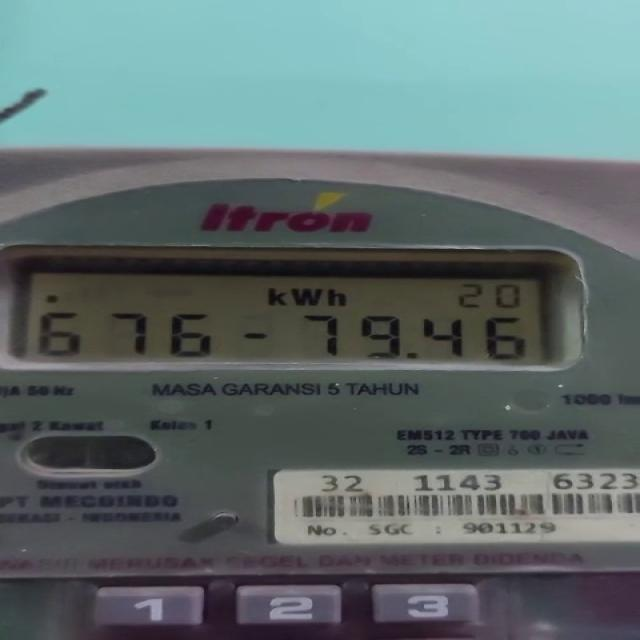LCD: (22, 258, 560, 371)
